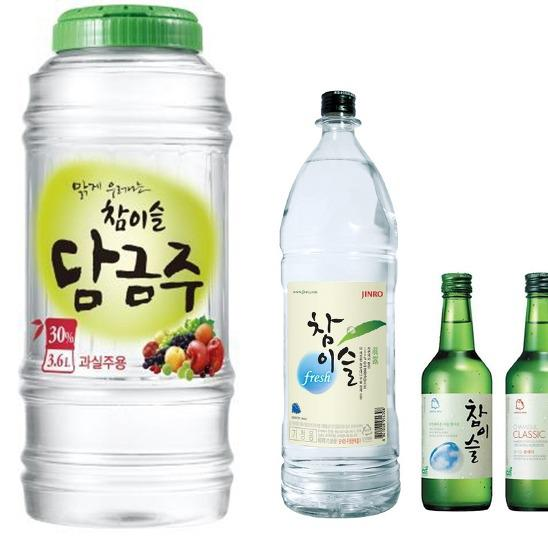soju: (20, 1, 239, 521), (274, 86, 407, 521), (417, 266, 548, 517)
